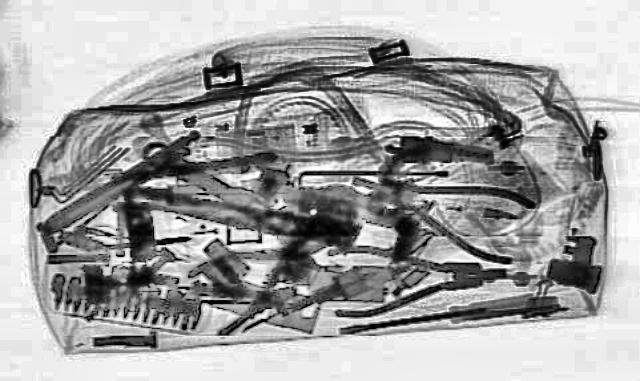Pliers: (318, 148, 566, 266), (136, 215, 348, 338), (322, 236, 512, 318)
Wrench: (116, 128, 354, 258)
